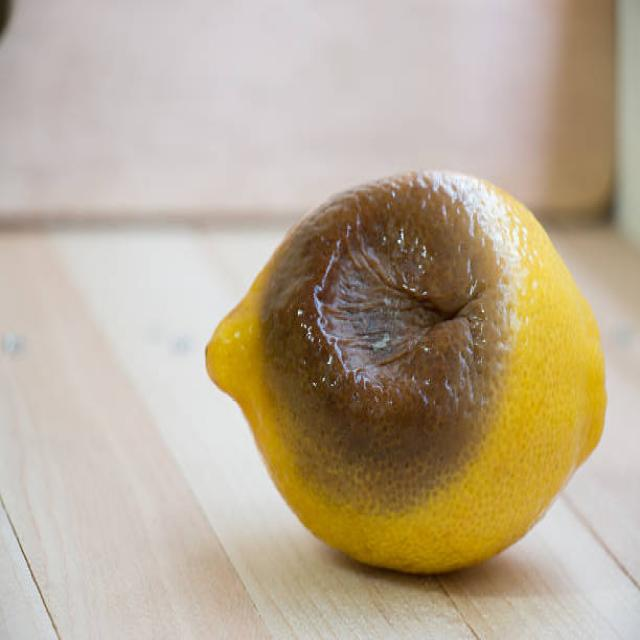Rotten: (203, 167, 606, 572)
